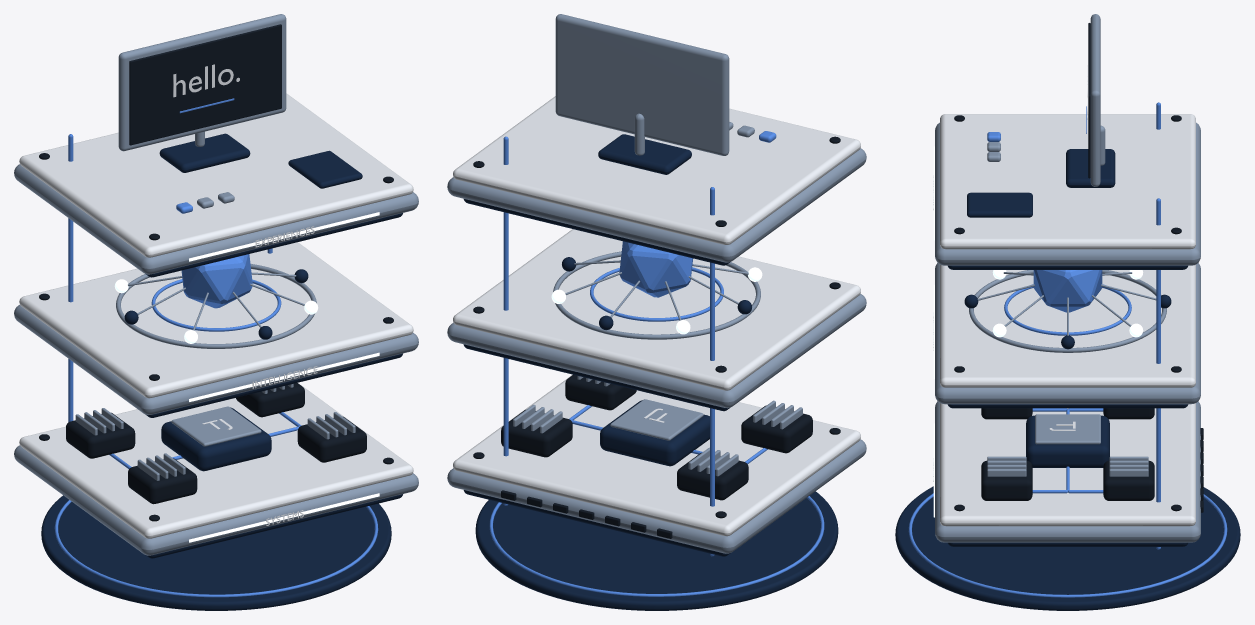
Rendered from studio.glb.
3 views of the same model, side by side, from view 1: azimuth 30°, elevation 25°; view 2: azimuth 150°, elevation 25°; view 3: azimuth 270°, elevation 25° (orthographic). The views are drawn at different scales.
Parts seen in each view (by area): view 1: Experiences face, Intelligence face, Base foundation, Systems face, Interface screen, Systems chassis, Experiences chassis, Intelligence chassis, Interface frame, Core processor, Decision core, Interface foot (+17 smaller); view 2: Intelligence face, Experiences face, Base foundation, Systems face, Interface frame, Experiences chassis, Intelligence chassis, Systems chassis, Core processor, Decision core, Core silver lid, Interface foot (+12 smaller); view 3: Experiences face, Intelligence face, Systems face, Base foundation, Intelligence chassis, Experiences chassis, Systems chassis, Core processor, Decision core, Core silver lid, Interface frame, Orbit outer (+12 smaller).
Part boxes in pixels (x1,y1,x2,y2): Experiences face: (19,93,413,257); Intelligence face: (19,242,413,398); Base foundation: (41,495,391,610); Systems face: (19,382,413,538); Interface screen: (129,24,281,145); Systems chassis: (14,445,418,555); Experiences chassis: (14,164,418,274); Intelligence chassis: (14,305,418,414); Interface frame: (118,14,286,151); Core processor: (161,407,271,471); Decision core: (181,254,252,308); Interface foot: (159,133,250,172); Intelligence face: (453,229,860,390); Experiences face: (453,96,860,244); Base foundation: (475,491,838,610); Systems face: (453,374,860,536); Interface frame: (555,14,729,155); Experiences chassis: (447,148,866,262); Intelligence chassis: (447,294,866,408); Systems chassis: (447,439,866,553); Core processor: (600,400,709,466); Decision core: (619,241,693,297); Core silver lid: (610,399,703,440); Interface foot: (598,134,691,174); Experiences face: (940,114,1195,249); Intelligence face: (940,264,1195,387); Systems face: (940,403,1195,526); Base foundation: (895,486,1240,610); Intelligence chassis: (935,263,1200,404); Experiences chassis: (935,122,1200,265); Systems chassis: (935,401,1200,542); Core processor: (1026,415,1109,467); Decision core: (1033,270,1102,312); Core silver lid: (1035,414,1100,444); Interface frame: (1090,14,1100,186); Orbit outer: (969,270,1166,352).
Size of the model in its own units: 3.5 by 5.45 by 3.5.
